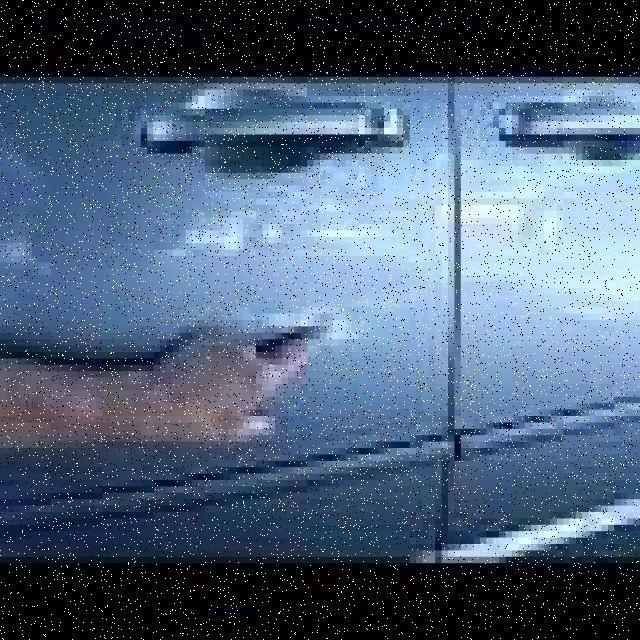doorouter-dent: (0, 83, 461, 576), (454, 70, 634, 564)
